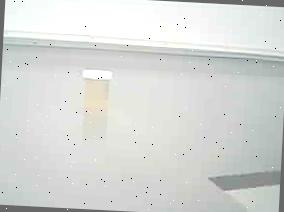Bottle B: (74, 64, 116, 119)
